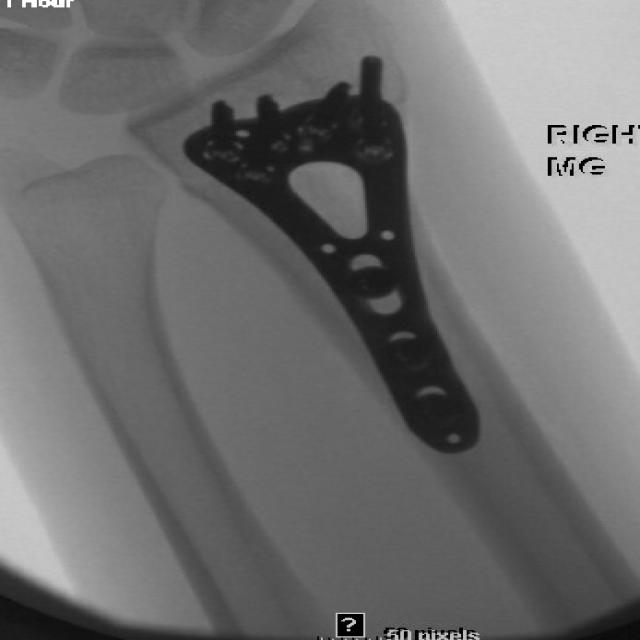x-ray: (169, 50, 502, 464)
